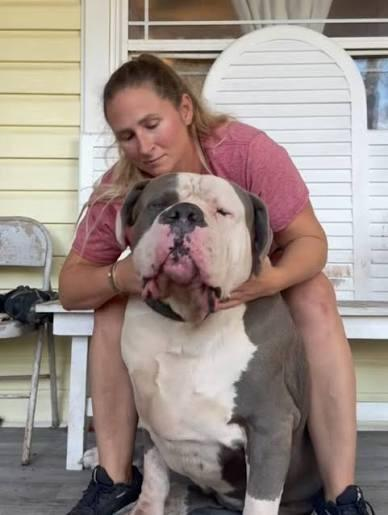adult_dog: (115, 173, 320, 513)
non-dog: (57, 54, 376, 515)
